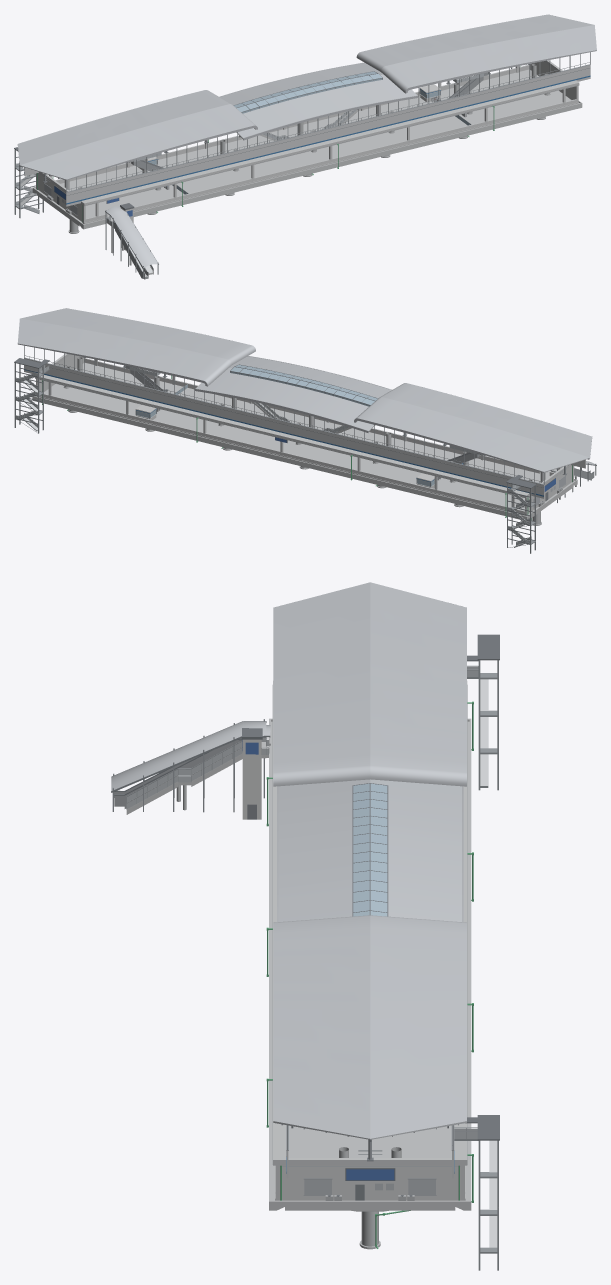
3 renders of one model, top to bottom at view 1: azimuth 30°, elevation 25°; view 2: azimuth 150°, elevation 25°; view 3: azimuth 270°, elevation 25°, orthographic. The views are drawn at different scales.
Parts seen in each view (by area): view 1: BL09, BL09_conc, BL09_access; view 2: BL09, BL09_conc, BL09_access; view 3: BL09, BL09_conc, BL09_access.
Part boxes in pixels (x1,y1,x2,y2): BL09: (17,14,596,206); BL09_conc: (32,60,582,233); BL09_access: (14,64,526,279); BL09: (17,308,592,498); BL09_conc: (32,353,577,525); BL09_access: (14,358,596,553); BL09: (273,582,466,1178); BL09_conc: (269,681,471,1249); BL09_access: (111,634,499,1270).
Bounding box in the file's own units: 181 × 28 × 53.5.
